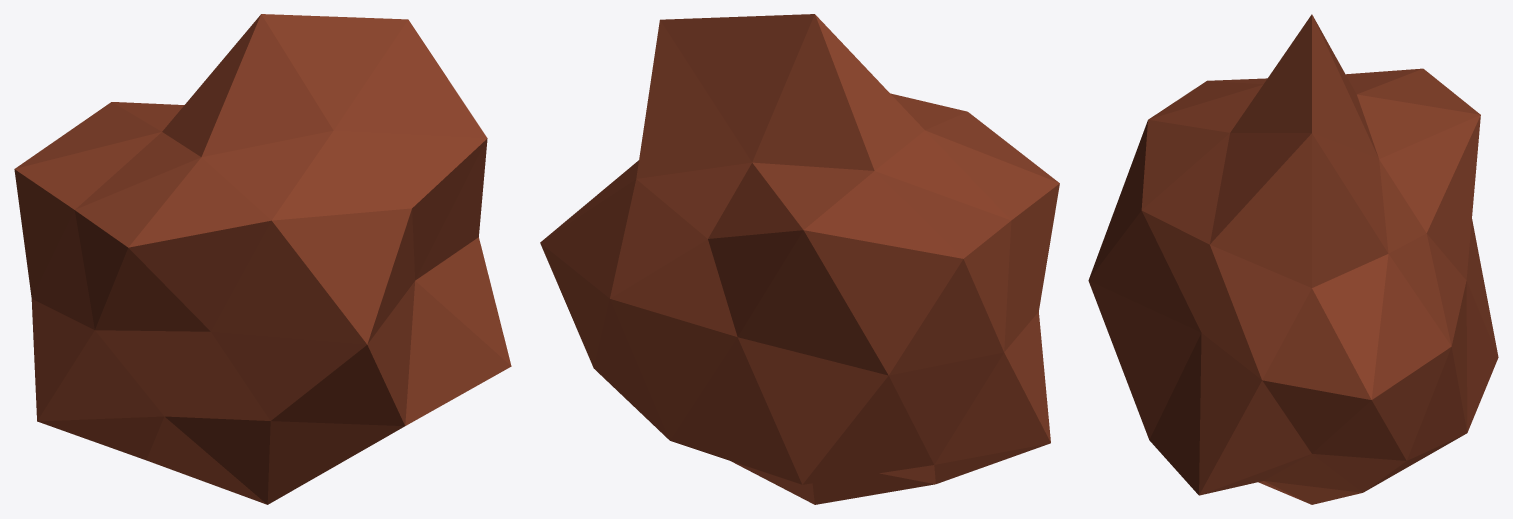
The model's file is mars_rock.glb.
3 views of the same model, side by side, from view 1: azimuth 30°, elevation 25°; view 2: azimuth 150°, elevation 25°; view 3: azimuth 270°, elevation 25° (orthographic). The views are drawn at different scales.
Parts seen in each view (by area): view 1: mars_rock; view 2: mars_rock; view 3: mars_rock.
Part boxes in pixels (box(x1,y1,x2,y2)): mars_rock: box(14, 14, 511, 504); mars_rock: box(540, 14, 1059, 504); mars_rock: box(1088, 14, 1498, 504).
Size of the model in its own units: 4.81 by 4.69 by 3.55.
